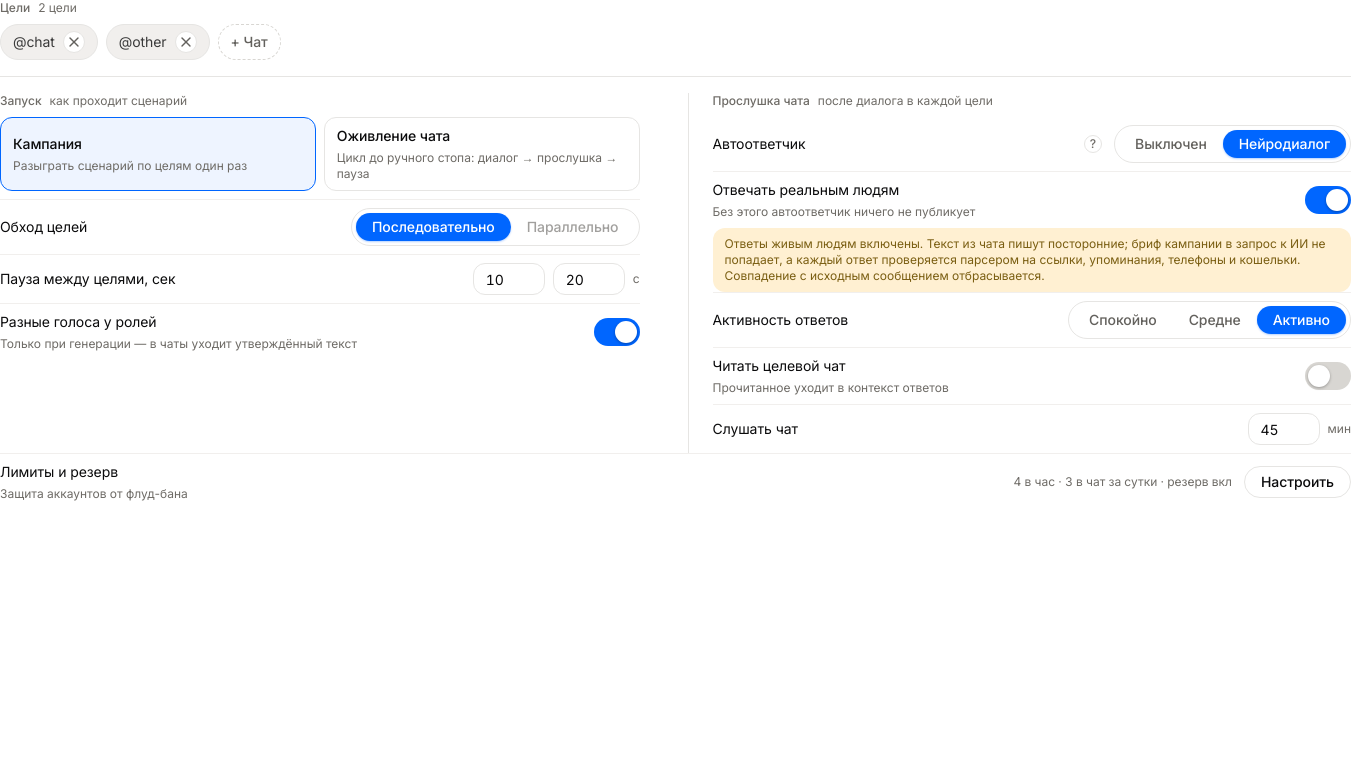
Test: the limits row summarises what is inside instead of opening a panel in place
Check: the field labelled "Сообщений в час" is not shown
Check: the text "4 в час · 3 в чат за сутки · резерв вкл" is shown, box [1014,474,1232,490]
What coordinates should you click on to do the following:
click the button "Настроить"
I would click on:
 (1298, 482)
Its box is [1244,466,1351,498].
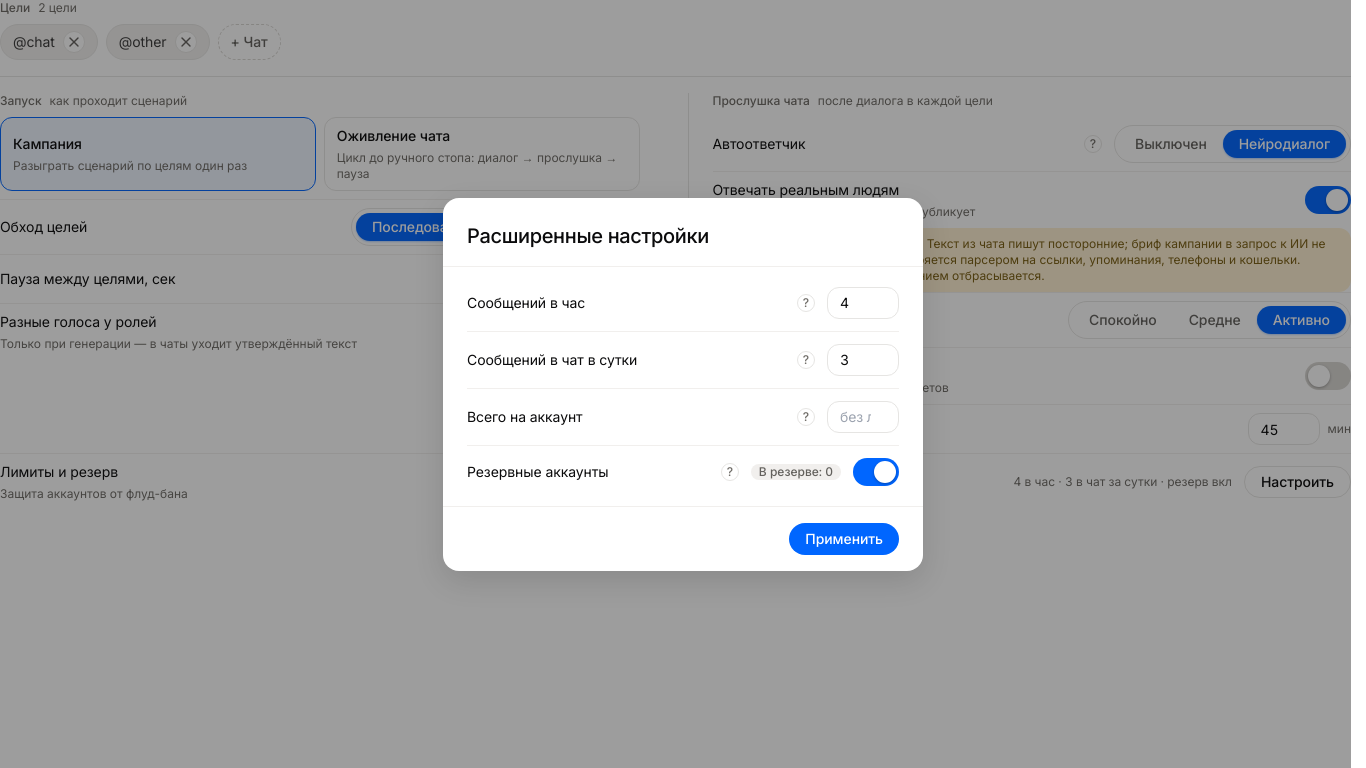
Check: the number field named "Сообщений в час" holds "4", box [827,286,899,318]
